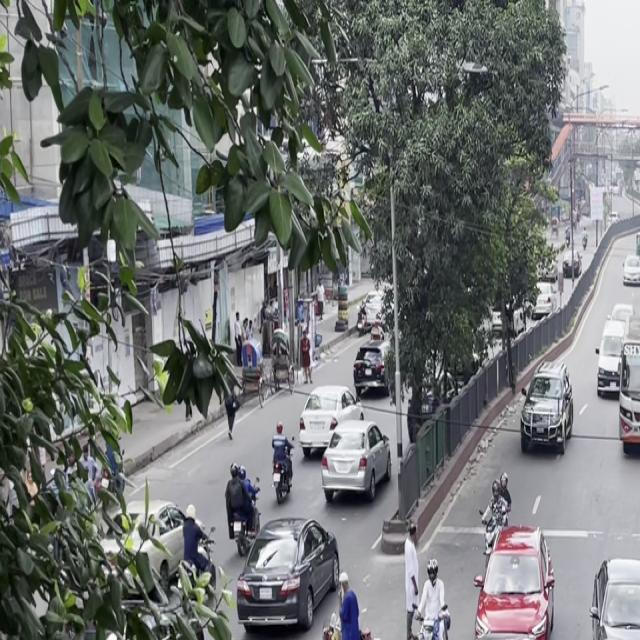bicycle: (307, 579, 396, 640)
bus: (615, 347, 640, 468)
car: (232, 513, 342, 640), (420, 580, 566, 640), (317, 413, 396, 514), (514, 362, 576, 462), (584, 543, 640, 640), (295, 388, 348, 465), (592, 327, 628, 404)
motorbike: (405, 557, 455, 640), (479, 466, 517, 550), (266, 422, 298, 508)
